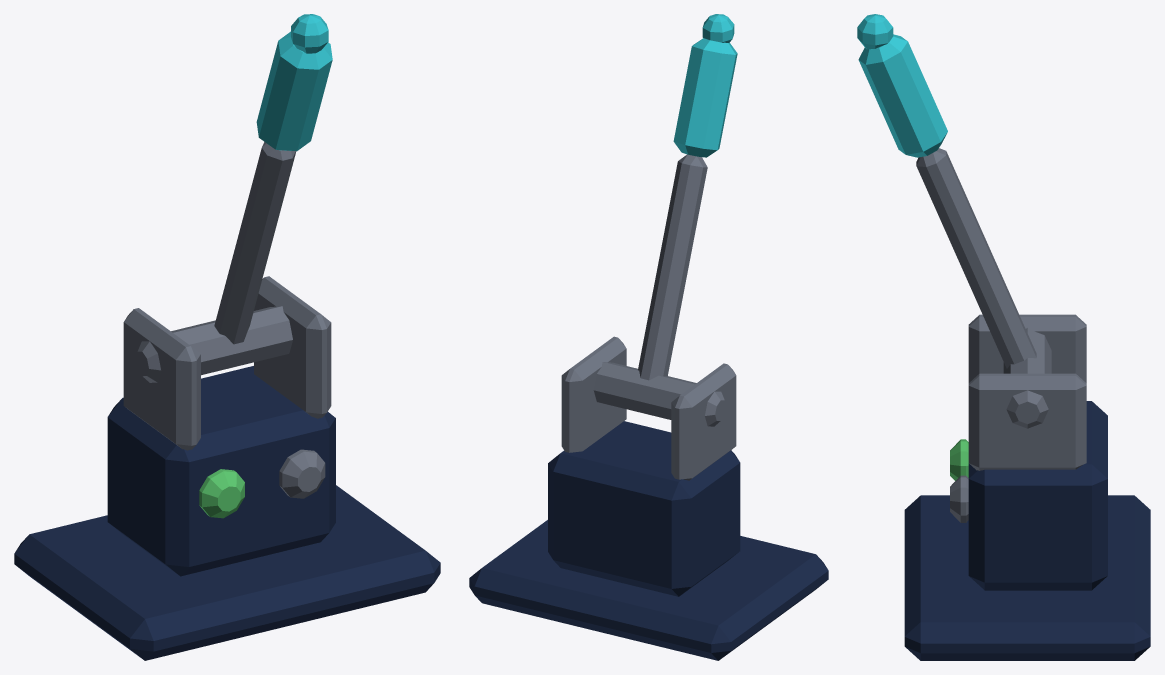
Rendered from lever.obj.
3 views of the same model, side by side, from view 1: azimuth 30°, elevation 25°; view 2: azimuth 150°, elevation 25°; view 3: azimuth 270°, elevation 25° (orthographic). The views are drawn at different scales.
Visible parts, largest first — view 1: lever; view 2: lever; view 3: lever.
Part boxes in pixels (<box>): lever: <box>14,14,440,660</box>; lever: <box>469,14,828,660</box>; lever: <box>857,14,1150,660</box>.
Bounding box in the file's own units: 0.62 × 1.2 × 0.5483.
